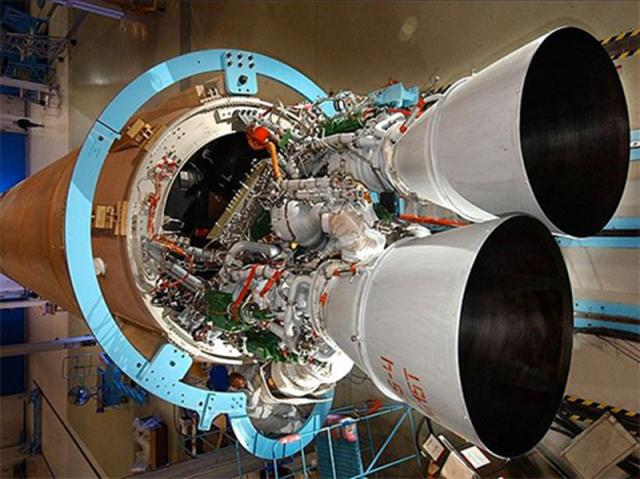body: (0, 86, 357, 369)
thruster: (324, 206, 580, 461), (398, 23, 634, 238)
